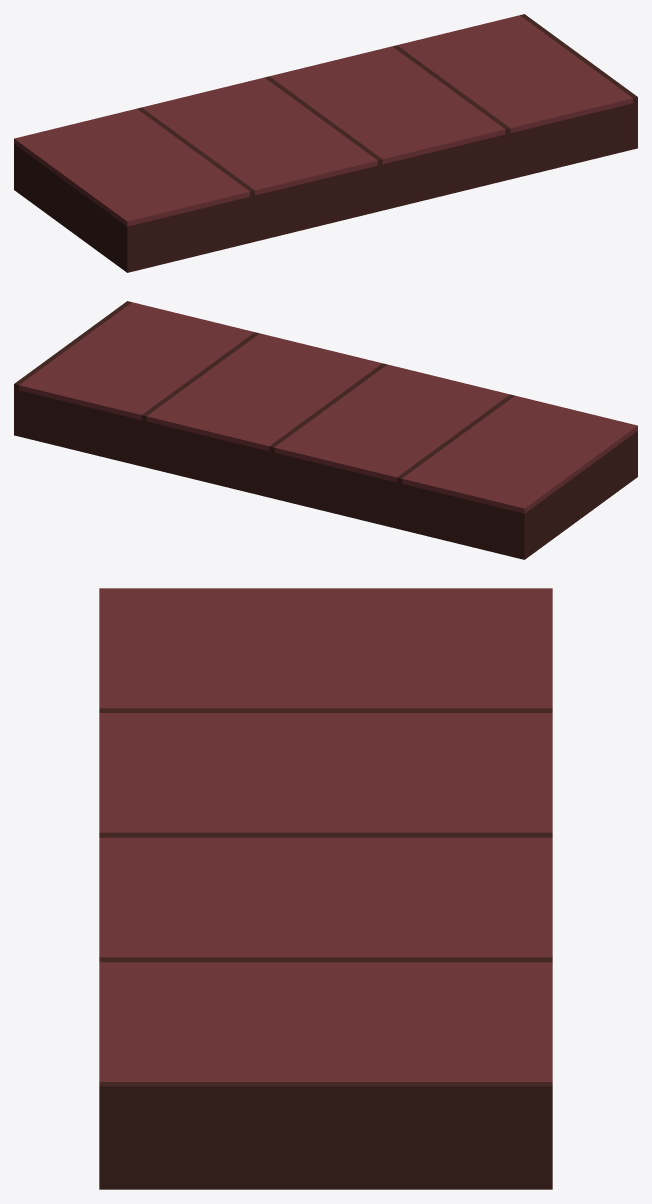
File: tapis.fbx
3 renders of one model, top to bottom at view 1: azimuth 30°, elevation 25°; view 2: azimuth 150°, elevation 25°; view 3: azimuth 270°, elevation 25°, orthographic. The views are drawn at different scales.
Parts seen in each view (by area): view 1: ObjObject.038; view 2: ObjObject.038; view 3: ObjObject.038.
Part boxes in pixels (x1,y1,x2,y2): ObjObject.038: (14,14,637,272); ObjObject.038: (14,301,637,559); ObjObject.038: (99,588,552,1189).
Size of the model in its own units: 1040 by 100 by 400.
